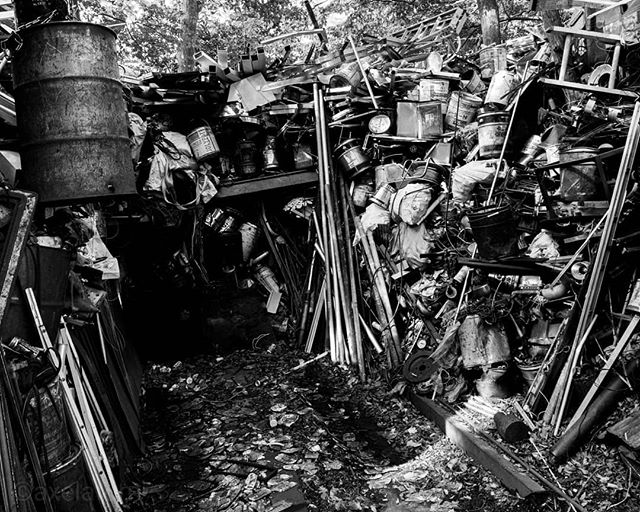trash: (1, 1, 626, 500)
